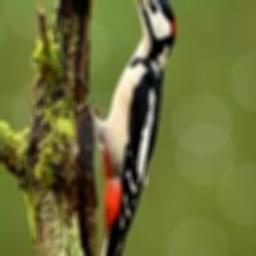Woodpecker: (73, 0, 175, 256)
